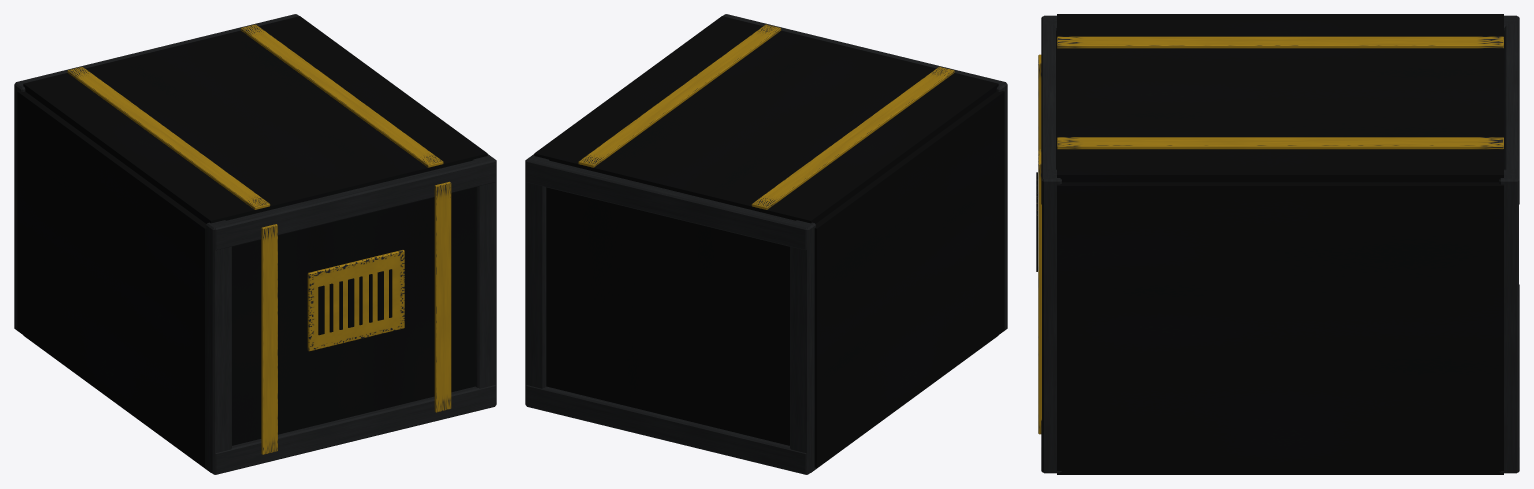
File: HarborSealedCrate.fbx
3 views of the same model, side by side, from view 1: azimuth 30°, elevation 25°; view 2: azimuth 150°, elevation 25°; view 3: azimuth 270°, elevation 25° (orthographic). The views are drawn at different scales.
Visible parts, largest first — view 1: HarborSealedCrate.001; view 2: HarborSealedCrate.001; view 3: HarborSealedCrate.001.
Boxes of the visible parts, box(x1,y1,x2,y2) form: HarborSealedCrate.001: box(14, 14, 496, 474); HarborSealedCrate.001: box(525, 14, 1007, 474); HarborSealedCrate.001: box(1036, 14, 1519, 474).
Size of the model in its own units: 1.2 by 1.01 by 1.46.
